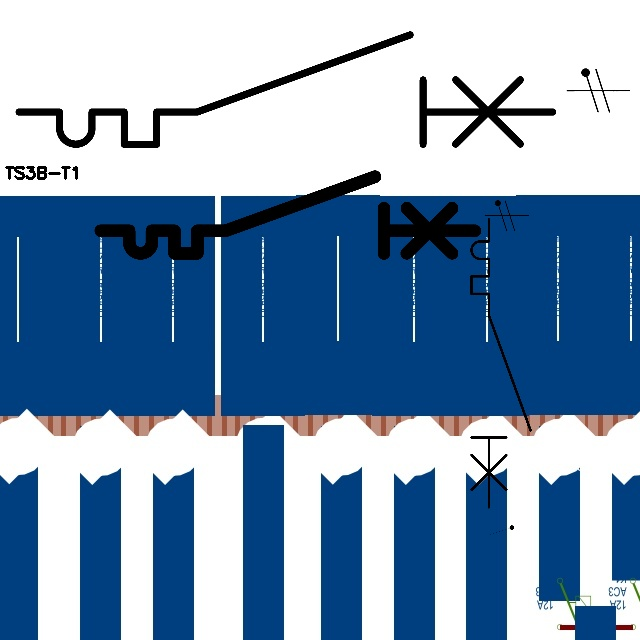interruptor_termomagnetico: (5, 21, 566, 158), (91, 167, 484, 263), (464, 212, 538, 514)
